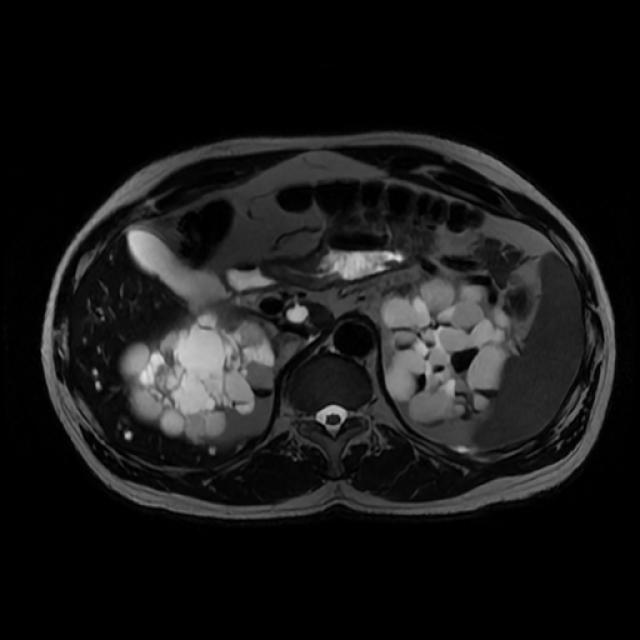sag: (118, 311, 275, 447)
sol: (380, 276, 518, 428)
